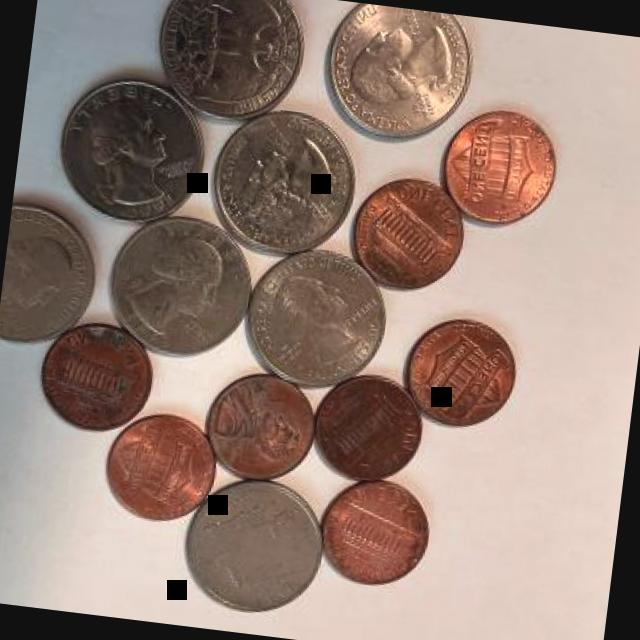Penny: (432, 100, 566, 232), (344, 167, 472, 300), (98, 402, 222, 528), (398, 310, 523, 434), (304, 369, 430, 490), (196, 366, 320, 487), (315, 473, 438, 594), (36, 318, 158, 436)
Quarter: (203, 100, 364, 264), (53, 72, 215, 230), (174, 468, 332, 626), (240, 242, 395, 399), (104, 209, 259, 365), (315, 0, 476, 148), (148, 0, 313, 131), (0, 192, 103, 355)
